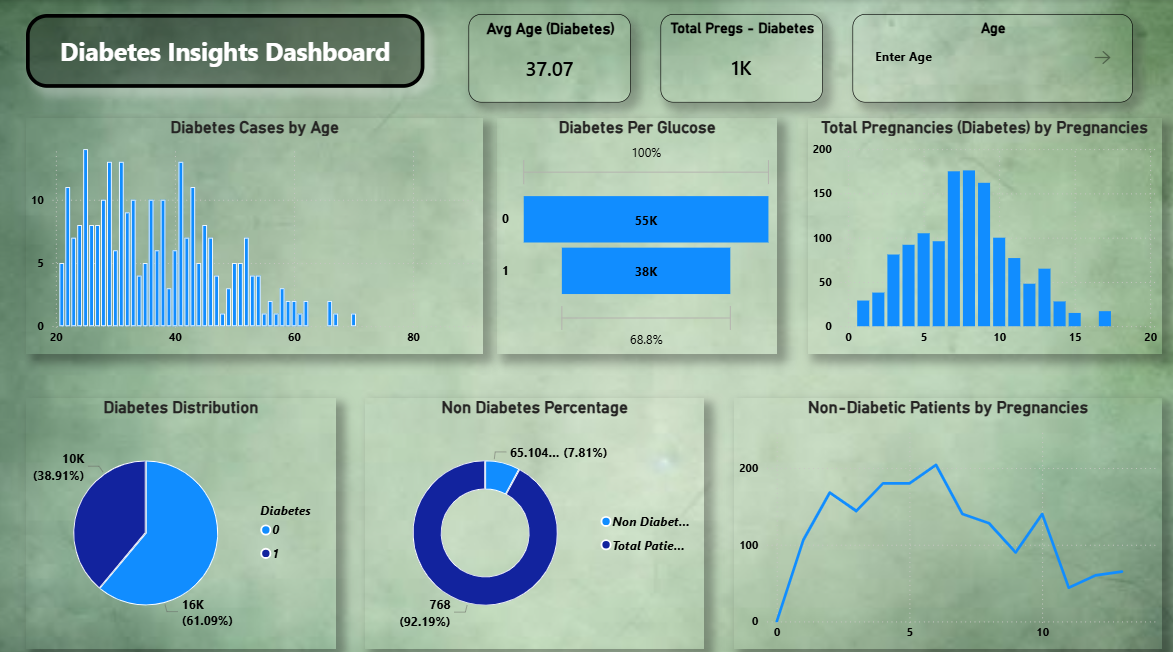

The dashboard page shown, as its layout file describes it:
{"tool":"powerbi","page":{"name":"Dashboard","canvas":[1280,720],"ordinal":0},"visuals":[{"type":"pieChart","title":"Diabetes Distribution","fields":{"Y":["Sum(diabetes.Age)"],"Category":["diabetes.Outcome"]},"box":[32,432,336,272],"z":0},{"type":"columnChart","title":"Diabetes Cases by Age","fields":{"Category":["diabetes.Age"],"Y":["Sum(diabetes.Outcome)"]},"box":[32,128,496,256],"z":1000},{"type":"textbox","box":[32,16,432,80],"z":2000},{"type":"donutChart","title":"Non Diabetes Percentage ","fields":{"Y":["diabetes.Non Diabetes Percentage","diabetes.Total Patients"]},"box":[400,432,368,272],"z":3000},{"type":"funnel","title":"Diabetes Per Glucose","fields":{"Category":["diabetes.Outcome"],"Y":["Sum(diabetes.Glucose)"]},"box":[544,128,304,256],"z":4000},{"type":"cardVisual","title":"Avg Age (Diabetes)","fields":{"Data":["diabetes.Average Age Diabetes"]},"box":[512,16,176,96],"z":5000},{"type":"cardVisual","title":"Total Pregs - Diabetes","fields":{"Data":["diabetes.Total Pregnancies (Diabetes)"]},"box":[720,16,176,96],"z":6000},{"type":"textSlicer","fields":{"Values":["diabetes.Age"]},"box":[928,16,304,96],"z":7000},{"type":"lineChart","title":"Non-Diabetic Patients by Pregnancies","fields":{"Category":["diabetes.Pregnancies"],"Y":["diabetes.Total Pregnancies (Non Diabetes)"]},"box":[800,432,464,272],"z":8000},{"type":"columnChart","fields":{"Category":["diabetes.Pregnancies"],"Y":["diabetes.Total Pregnancies (Diabetes)"]},"box":[880,128,384,256],"z":9000}]}

Visuals, with their boxes in screenshot pixels (x1, y1, x2, y2), scaled from the page's 1280x720 canvas onto the 1173x652 screenshot:
"Diabetes Distribution" pieChart: bbox=[29, 391, 337, 638]
"Diabetes Cases by Age" columnChart: bbox=[29, 116, 484, 348]
textbox: bbox=[29, 14, 425, 87]
"Non Diabetes Percentage " donutChart: bbox=[367, 391, 704, 638]
"Diabetes Per Glucose" funnel: bbox=[499, 116, 777, 348]
"Avg Age (Diabetes)" cardVisual: bbox=[469, 14, 630, 101]
"Total Pregs - Diabetes" cardVisual: bbox=[660, 14, 821, 101]
textSlicer - diabetes.Age: bbox=[850, 14, 1129, 101]
"Non-Diabetic Patients by Pregnancies" lineChart: bbox=[733, 391, 1158, 638]
columnChart - diabetes.Pregnancies x diabetes.Total Pregnancies (Diabetes): bbox=[806, 116, 1158, 348]
